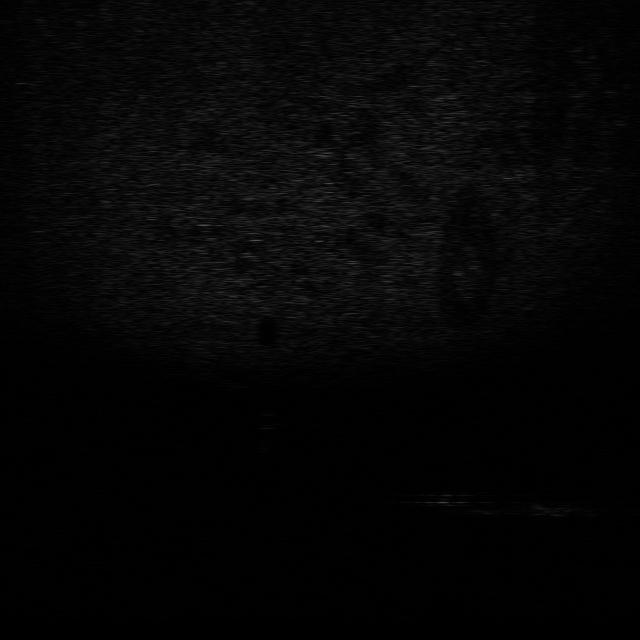ball: (250, 410, 282, 431)
metal bucket: (516, 498, 592, 519)
tyre: (436, 490, 512, 516)
